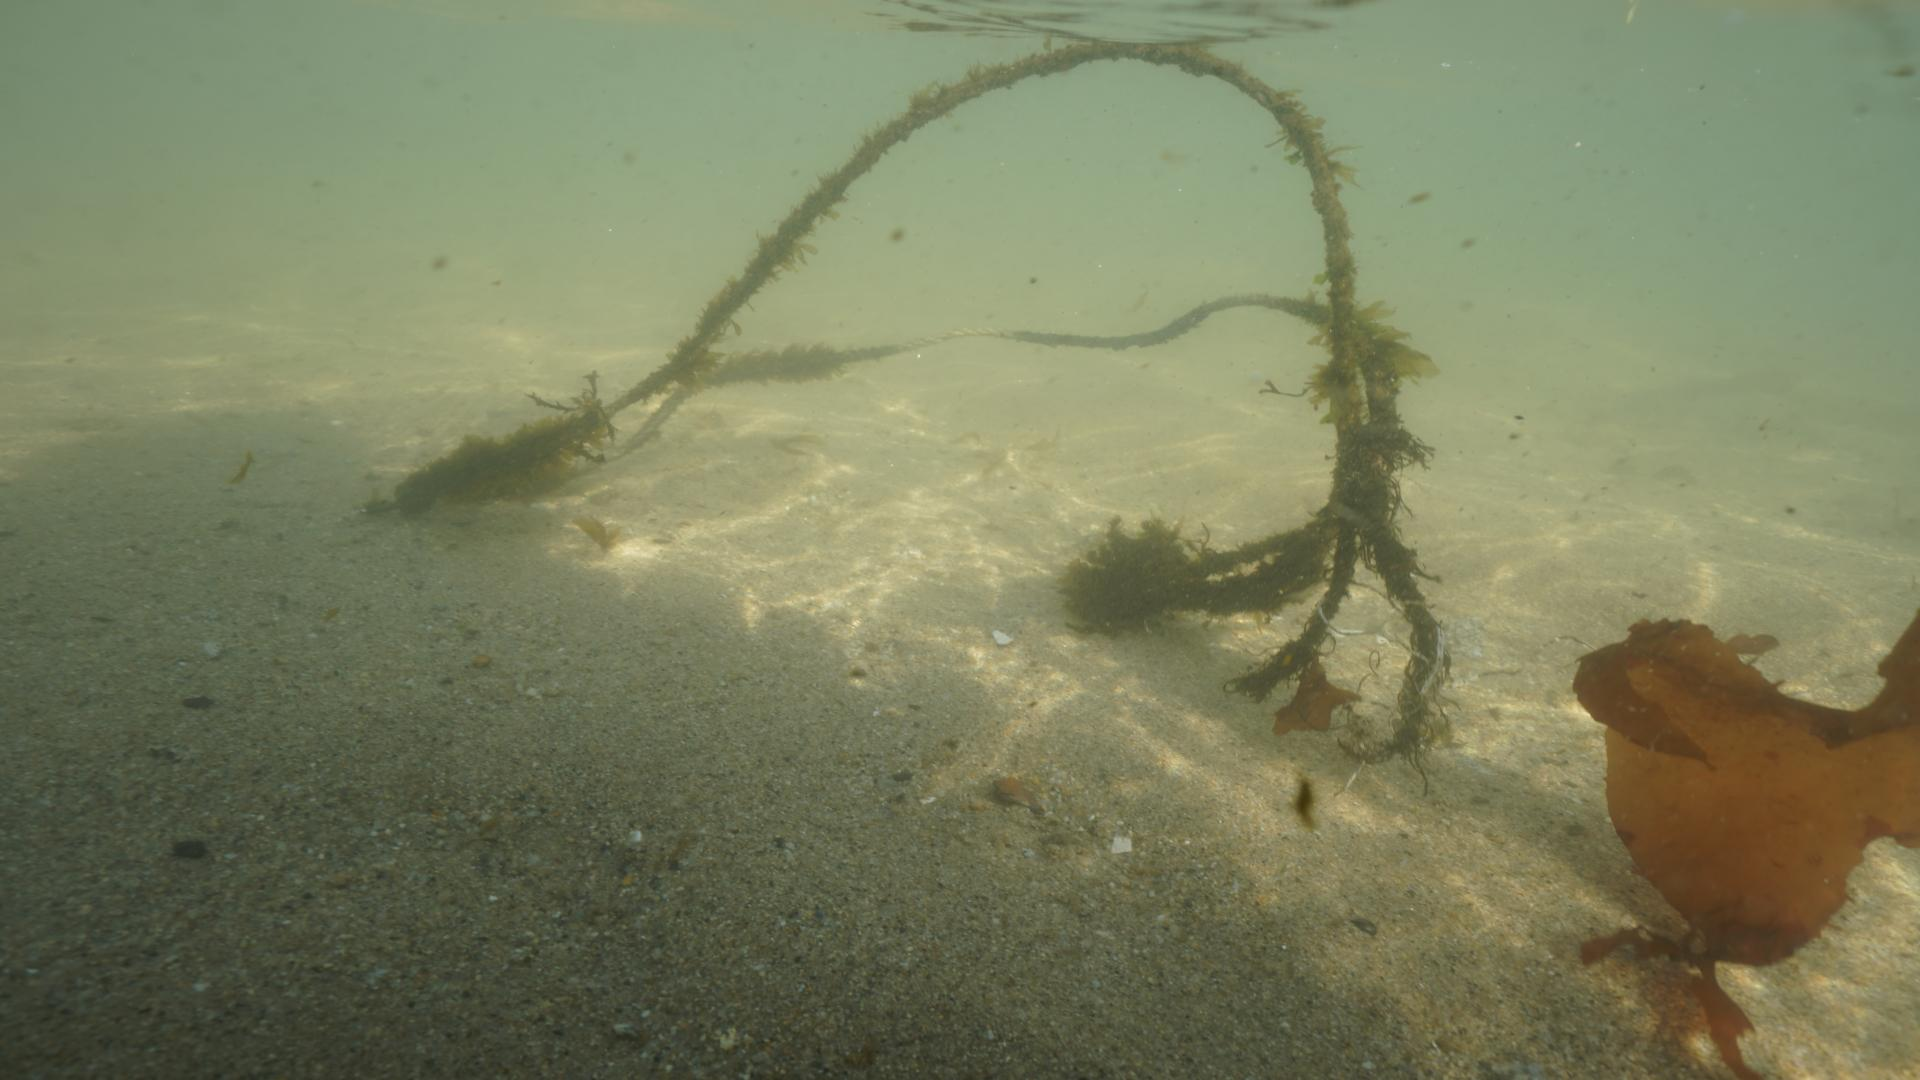bundle of ropes: (615, 40, 1440, 709)
